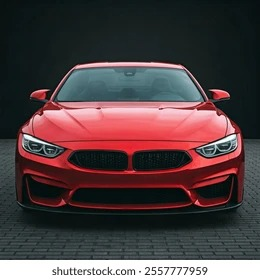car: (19, 64, 250, 216), (15, 75, 241, 211)
